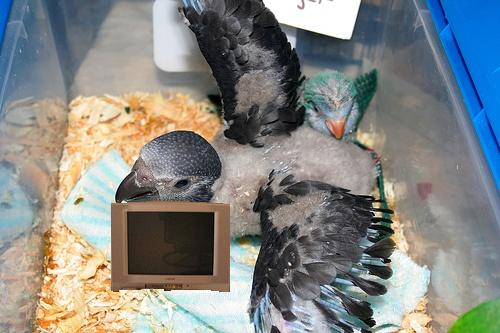tampered: (112, 202, 230, 292)
